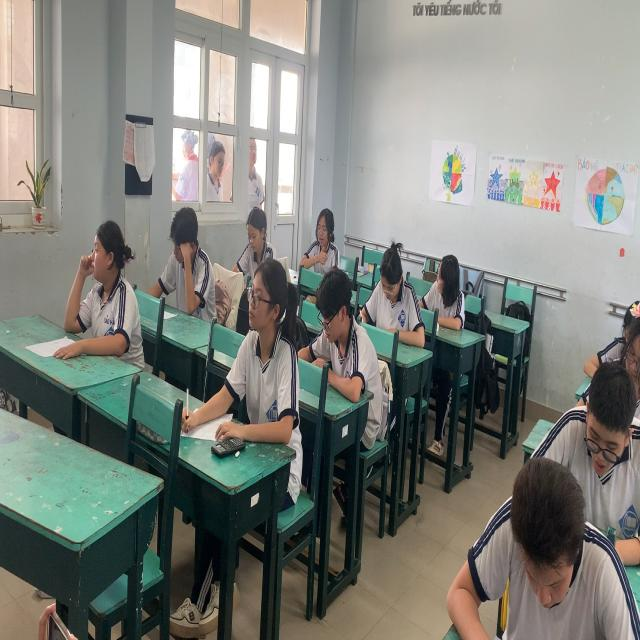cheating: (420, 240, 464, 330)
not_cheating: (458, 464, 634, 640), (530, 364, 640, 502), (233, 261, 301, 457), (67, 222, 136, 361), (306, 275, 372, 385), (151, 205, 211, 316), (361, 247, 427, 340), (295, 198, 339, 270), (229, 209, 279, 264)
